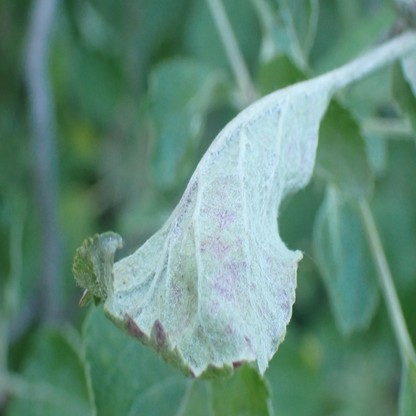powder: (72, 77, 322, 379)
